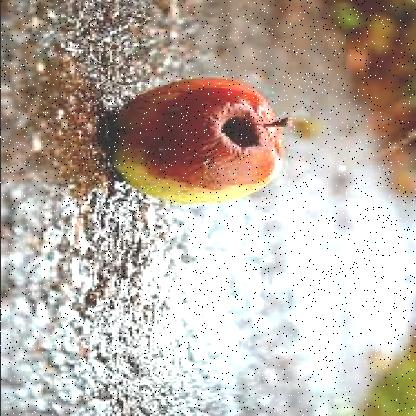damaged_apple: (111, 76, 285, 204)
